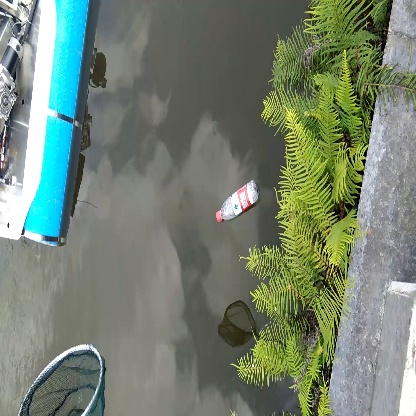bottle: (212, 178, 262, 224)
